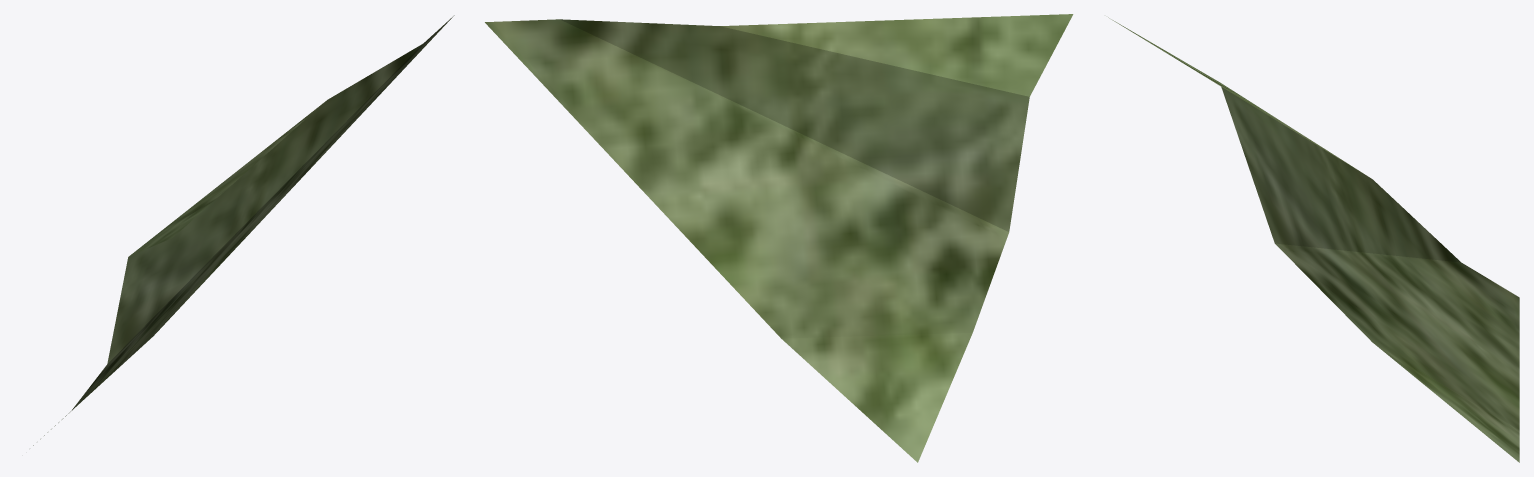
3 views of the same model, side by side, from view 1: azimuth 30°, elevation 25°; view 2: azimuth 150°, elevation 25°; view 3: azimuth 270°, elevation 25° (orthographic). The views are drawn at different scales.
Bounding box in the file's own units: 0.9531 × 0.7039 × 0.5929.
1 material, 1 textured.
